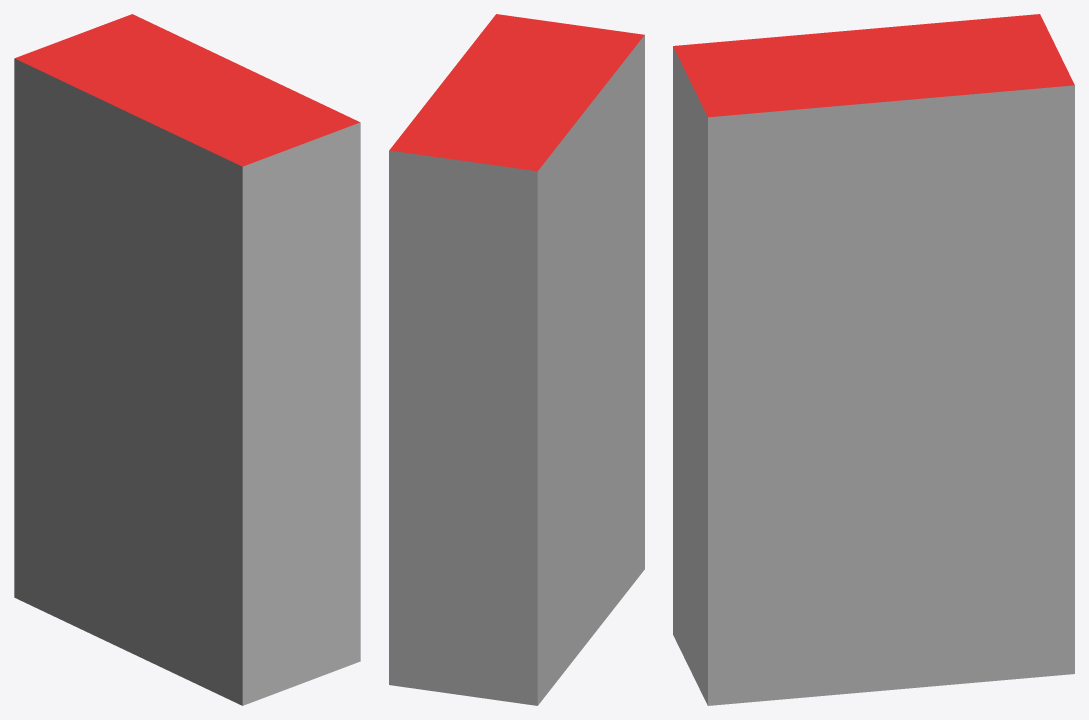
File: DEBE3D04YY50002c0F.dae
The picture shows the model from 3 angles, left to right: view 1: azimuth 30°, elevation 25°; view 2: azimuth 150°, elevation 25°; view 3: azimuth 270°, elevation 25°; orthographic projection. The views are drawn at different scales.
Bounding box in the file's own units: 4.64 × 7.63 × 12.33.
